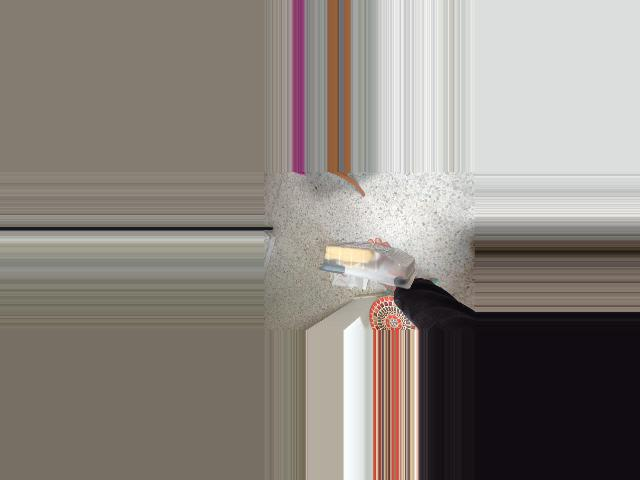cheese: (321, 241, 419, 292)
